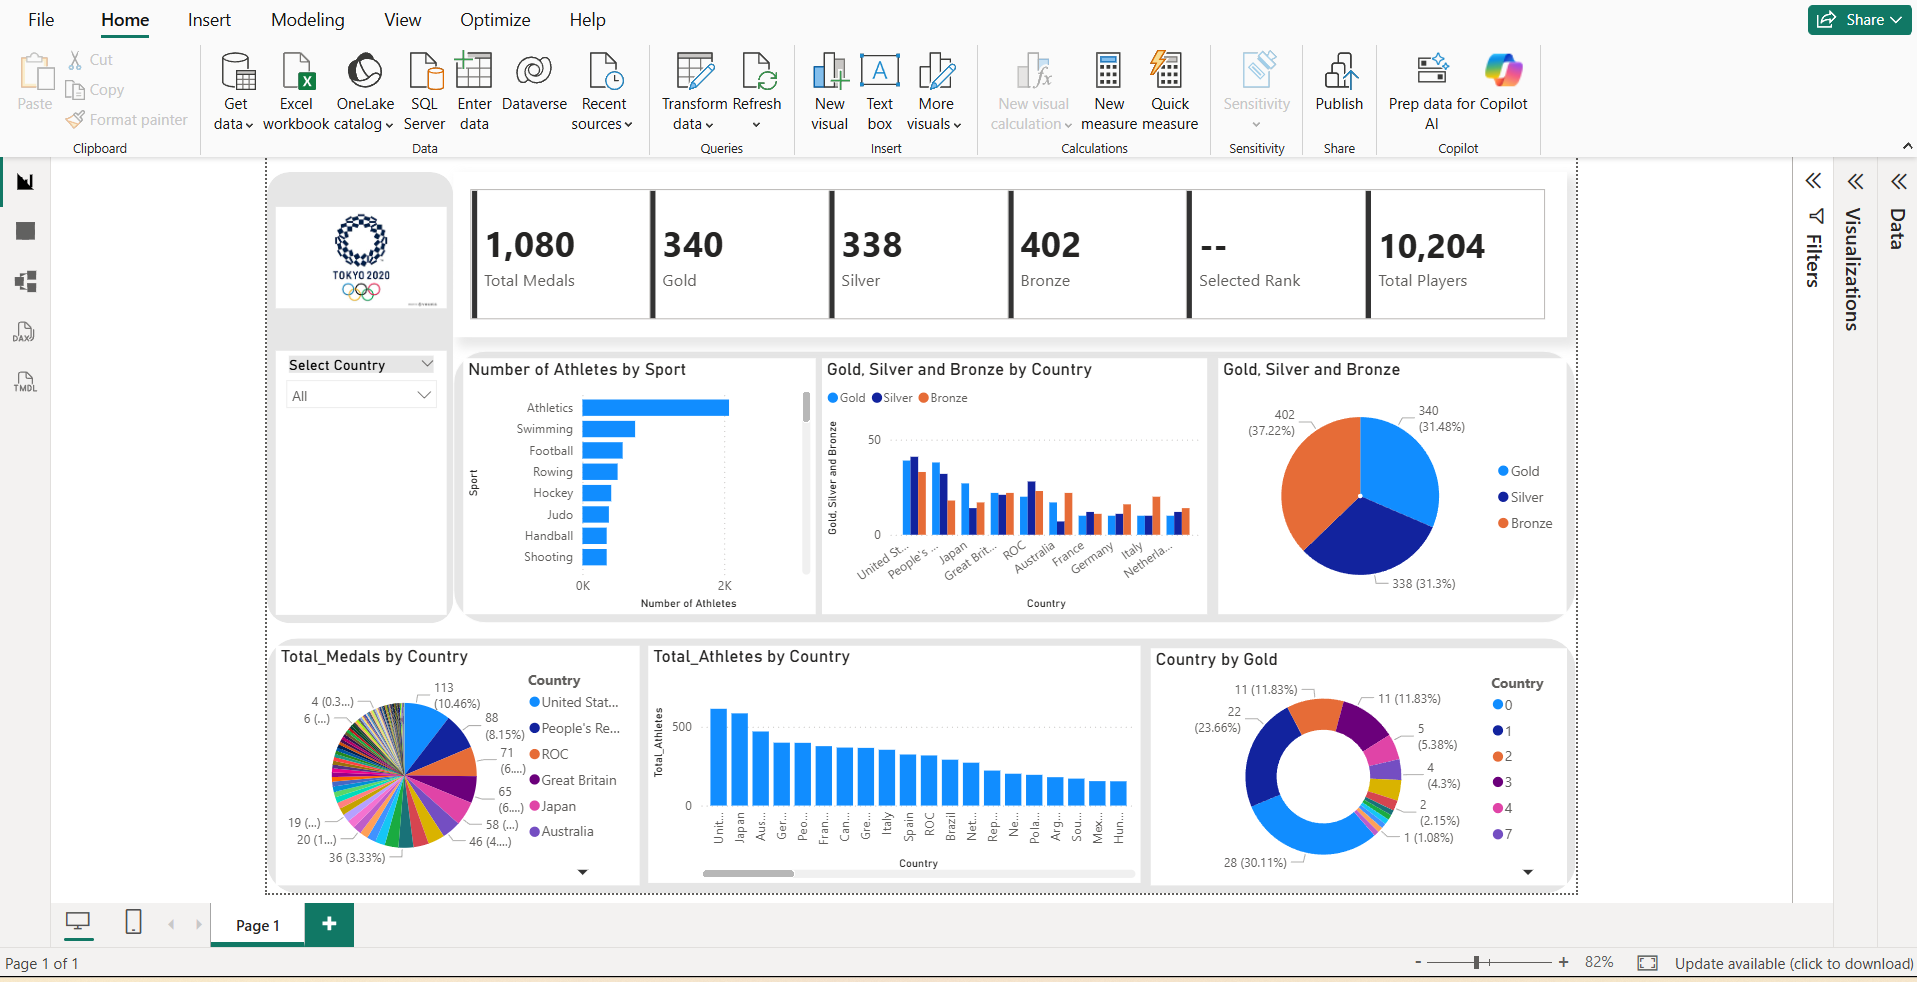

The page's visual inventory and layout, read from the dashboard file:
{"tool":"powerbi","page":{"name":"Page 1","canvas":[1280,720],"ordinal":0},"visuals":[{"type":"shape","box":[0,470.8,1280.3,249.5],"z":0},{"type":"shape","box":[182.2,189.5,1098.1,266.6],"z":1000},{"type":"cardVisual","fields":{"Data":["Sum(country.Total)","Sum(country.Gold)","Sum(country.Silver)","Sum(country.Bronze)","country.Country_Rank","Sum(country.Total_Players)"]},"box":[182.2,14.7,1089.5,161.4],"z":2000},{"type":"barChart","fields":{"Category":["sport.Sport"],"Y":["Sum(sport.Number_of_Players)"]},"box":[192,196.9,344.8,250.7],"z":3000},{"type":"clusteredColumnChart","fields":{"Category":["country.Country"],"Y":["Sum(country.Gold)","Sum(country.Silver)","Sum(country.Bronze)"]},"box":[542.9,196.9,376.6,250.7],"z":4000},{"type":"pieChart","fields":{"Category":["country.Country"],"Y":["Sum(country.Total_Medals)"]},"box":[8.6,478.1,355.8,234.8],"z":5000},{"type":"donutChart","fields":{"Category":["country.Gold"],"Y":["CountNonNull(country.Country)"]},"box":[864.5,480.6,407.2,232.3],"z":6000},{"type":"lineStackedColumnComboChart","fields":{"Category":["country.Country"],"Y":["Sum(country.Total_Athletes)"]},"box":[373,478.1,481.8,232.3],"z":7000},{"type":"pieChart","fields":{"Y":["Sum(country.Gold)","Sum(country.Silver)","Sum(country.Bronze)"]},"box":[930.6,196.9,341.2,250.7],"z":8000},{"type":"shape","box":[0,14.7,182.2,441.4],"z":9000},{"type":"image","box":[8.6,0,167.5,196.9],"z":10000},{"type":"slicer","fields":{"Values":["country.Country"]},"box":[8.6,189.5,167.5,258],"z":11000}]}

Visuals, with their boxes on the page's 1280x720 design canvas (x1, y1, x2, y2). These are canvas units, not pixel positions in the 1917x982 screenshot, which may show the page scaled, cropped or inside an application window:
shape: x1=0 y1=471 x2=1280 y2=720
shape: x1=182 y1=190 x2=1280 y2=456
cardVisual - Sum(country.Total) x Sum(country.Gold): x1=182 y1=15 x2=1272 y2=176
barChart - sport.Sport x Sum(sport.Number_of_Players): x1=192 y1=197 x2=537 y2=448
clusteredColumnChart - country.Country x Sum(country.Gold): x1=543 y1=197 x2=920 y2=448
pieChart - country.Country x Sum(country.Total_Medals): x1=9 y1=478 x2=364 y2=713
donutChart - country.Gold x CountNonNull(country.Country): x1=864 y1=481 x2=1272 y2=713
lineStackedColumnComboChart - country.Country x Sum(country.Total_Athletes): x1=373 y1=478 x2=855 y2=710
pieChart - Sum(country.Gold) x Sum(country.Silver): x1=931 y1=197 x2=1272 y2=448
shape: x1=0 y1=15 x2=182 y2=456
image: x1=9 y1=0 x2=176 y2=197
slicer - country.Country: x1=9 y1=190 x2=176 y2=448
